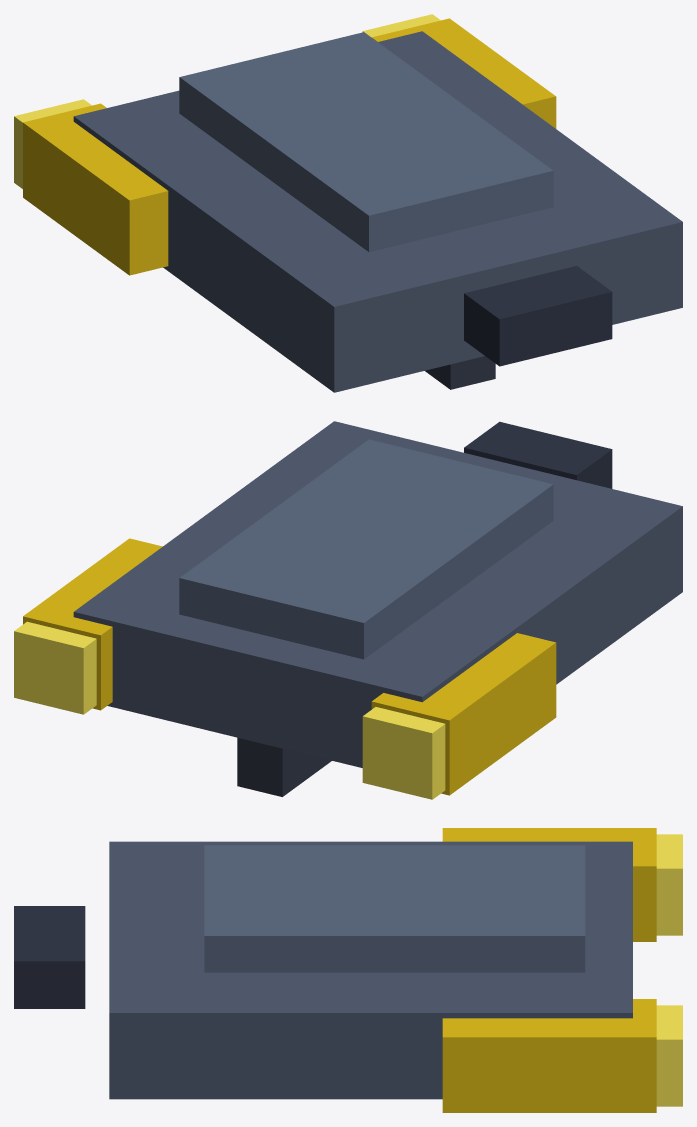
The model's file is freighter.glb.
The picture shows the model from 3 angles, top to bottom: view 1: azimuth 30°, elevation 25°; view 2: azimuth 150°, elevation 25°; view 3: azimuth 270°, elevation 25°; orthographic projection.
Visible parts, largest first — view 1: Freighter; view 2: Freighter; view 3: Freighter.
Boxes of the visible parts, <box> form: Freighter: <box>14,14,682,392</box>; Freighter: <box>14,421,682,799</box>; Freighter: <box>14,828,682,1112</box>.
Size of the model in its own units: 2.08 by 0.85 by 2.81.
